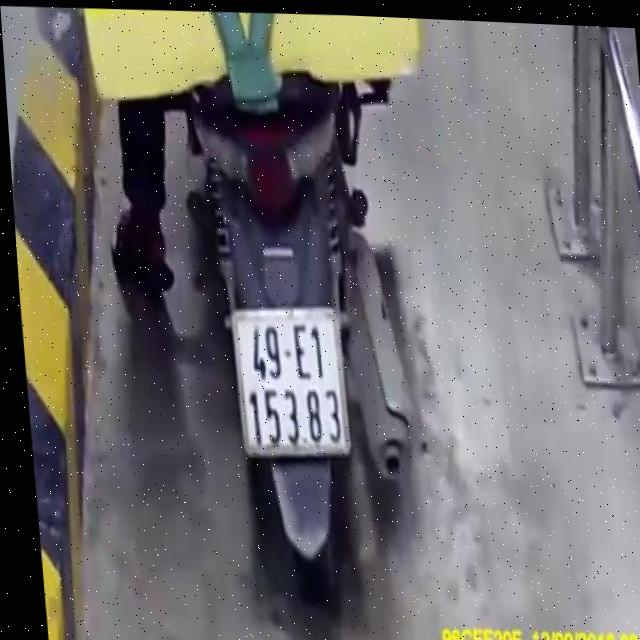motorcycle: (159, 62, 454, 614)
plate: (220, 298, 359, 466)
